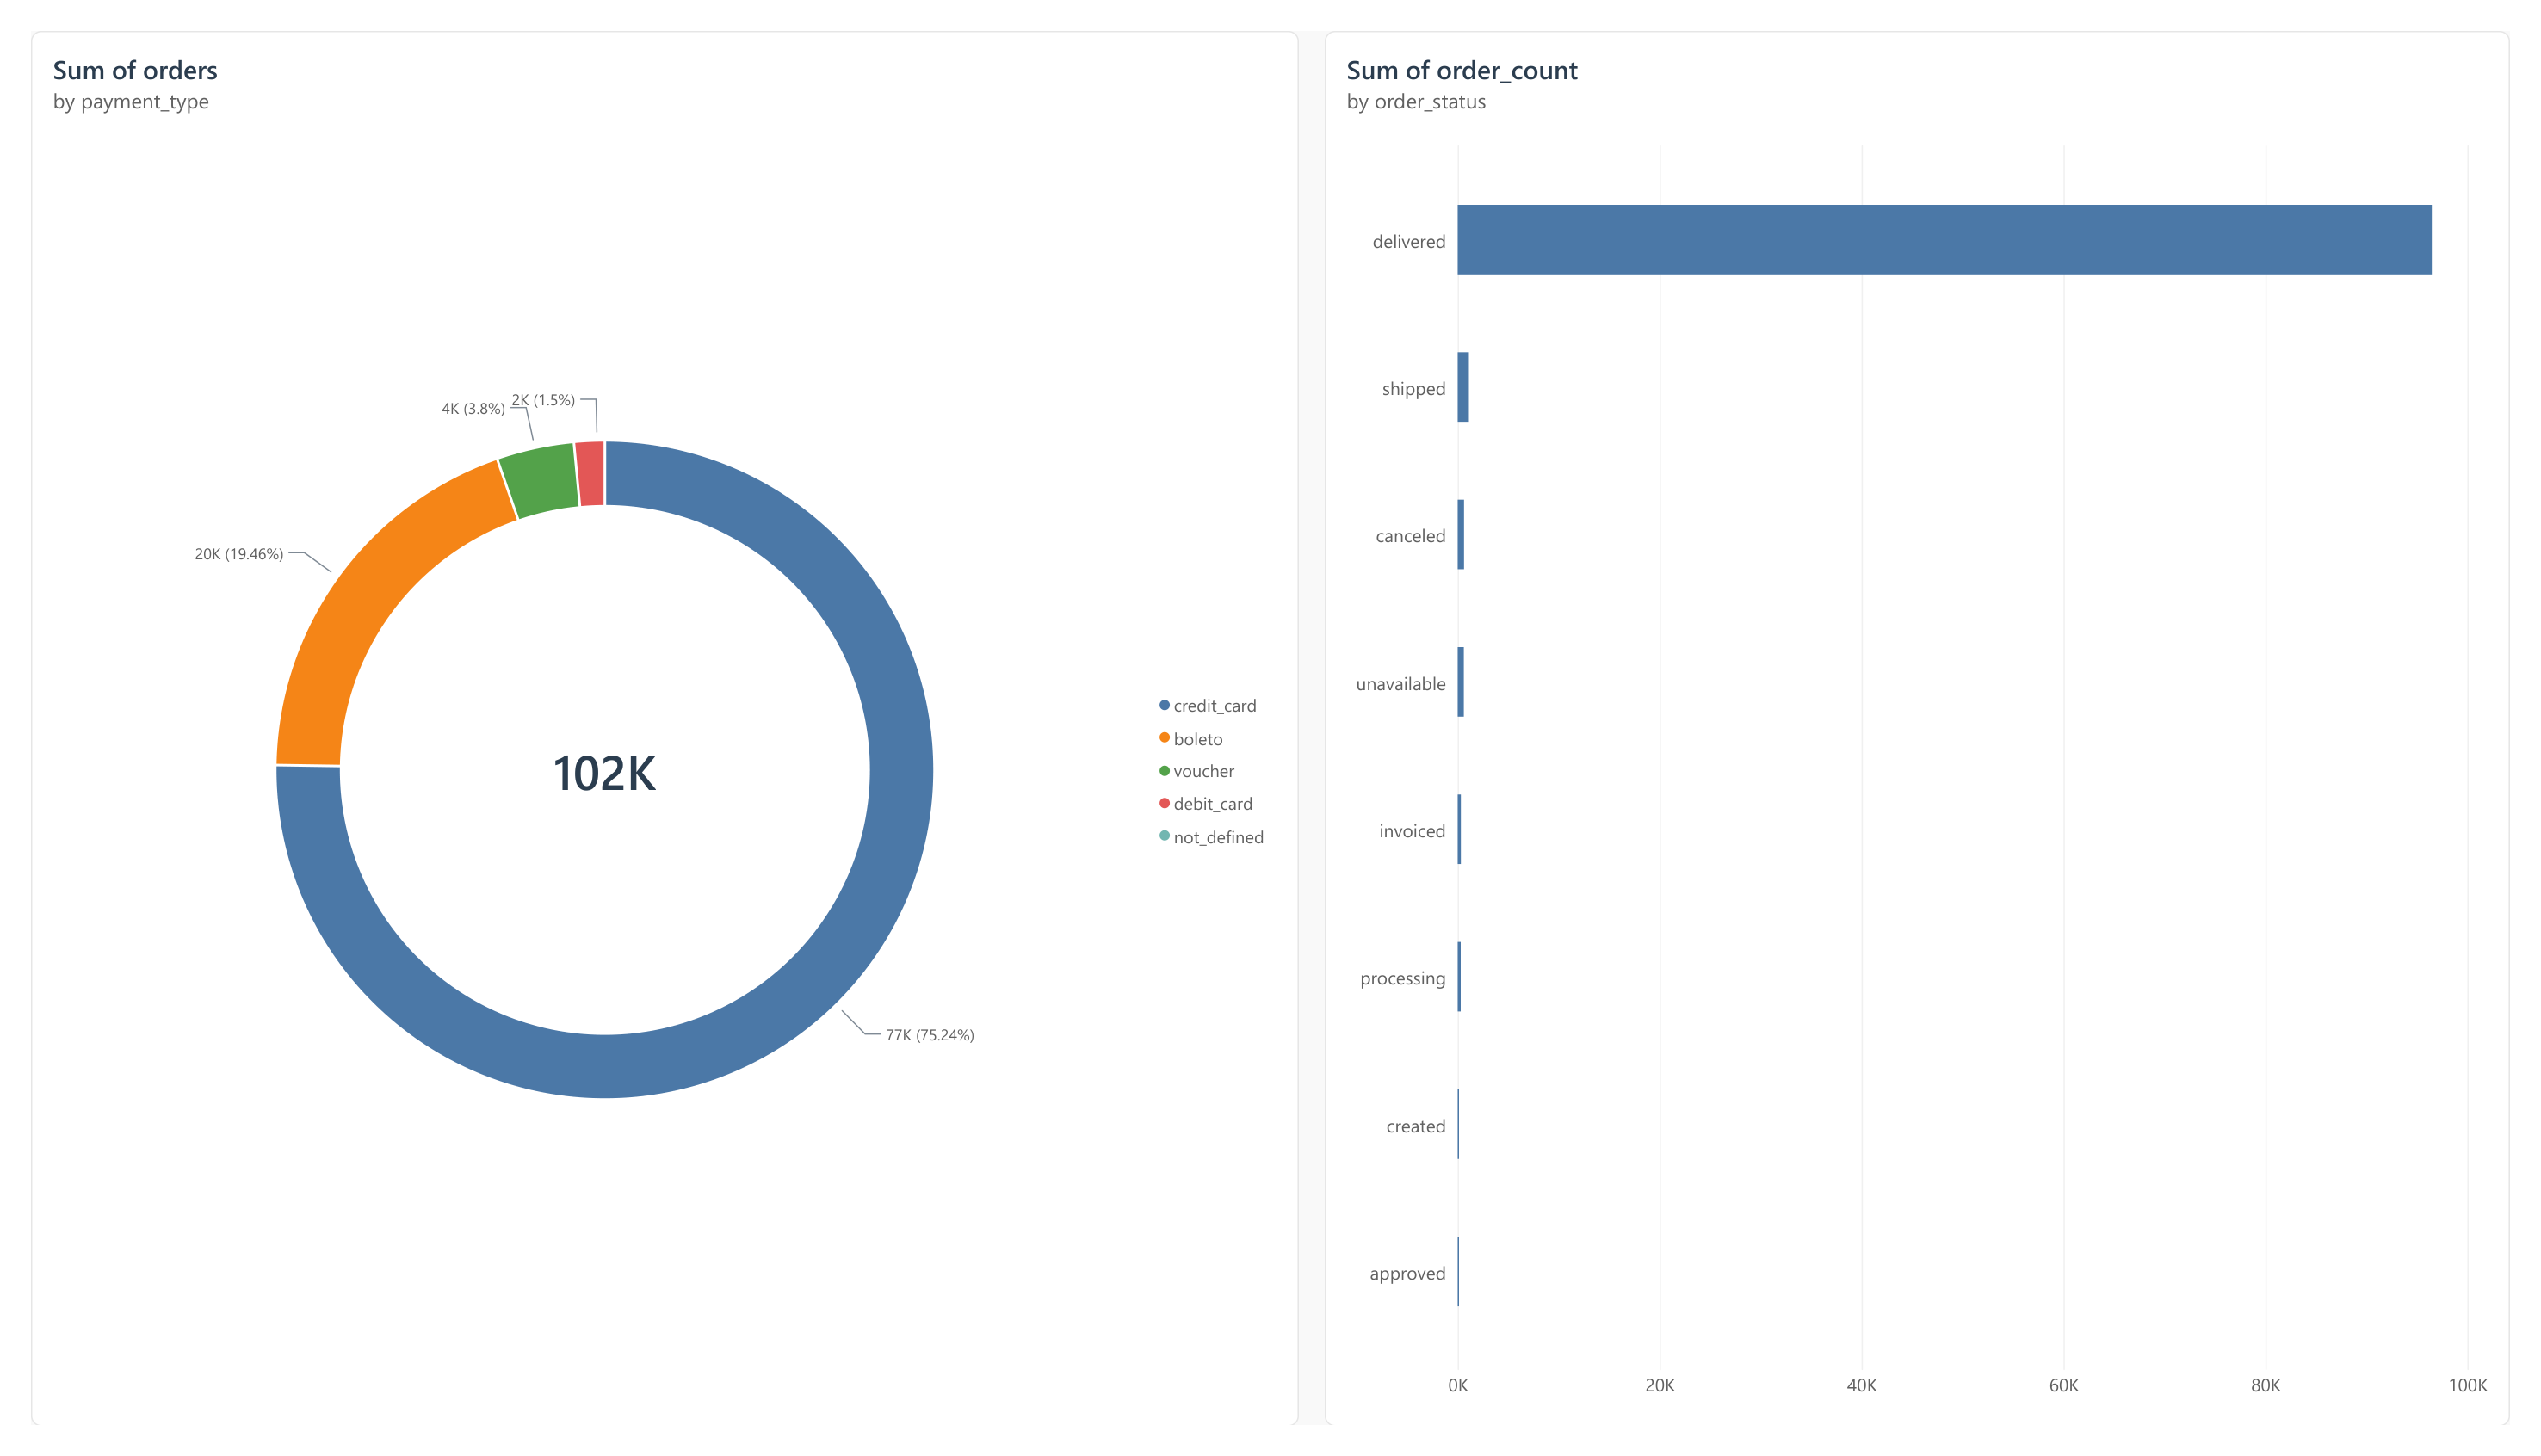

The page's visual inventory and layout, read from the dashboard file:
{"tool":"powerbi","page":{"name":"Payments & Orders","canvas":[1920,1080],"ordinal":2},"visuals":[{"type":"donutChart","fields":{"Category":["payment_methods.payment_type"],"Y":["Sum(payment_methods.orders)"]},"box":[0,0,981.8,1080.6],"z":0},{"type":"barChart","fields":{"Category":["order_status.order_status"],"Y":["Sum(order_status.order_count)"]},"box":[1002.4,0,918,1080.6],"z":1000}]}

Visuals, with their boxes in screenshot pixels (x1, y1, x2, y2), scaled from the page's 1920x1080 canvas onto the 2541x1456 screenshot:
donutChart - payment_methods.payment_type x Sum(payment_methods.orders): [0, 0, 1300, 1455]
barChart - order_status.order_status x Sum(order_status.order_count): [1326, 0, 2540, 1455]
